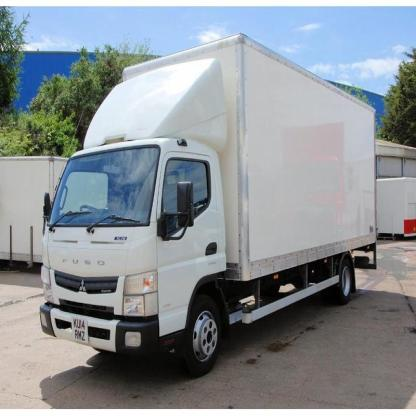truck: (42, 35, 379, 375)
